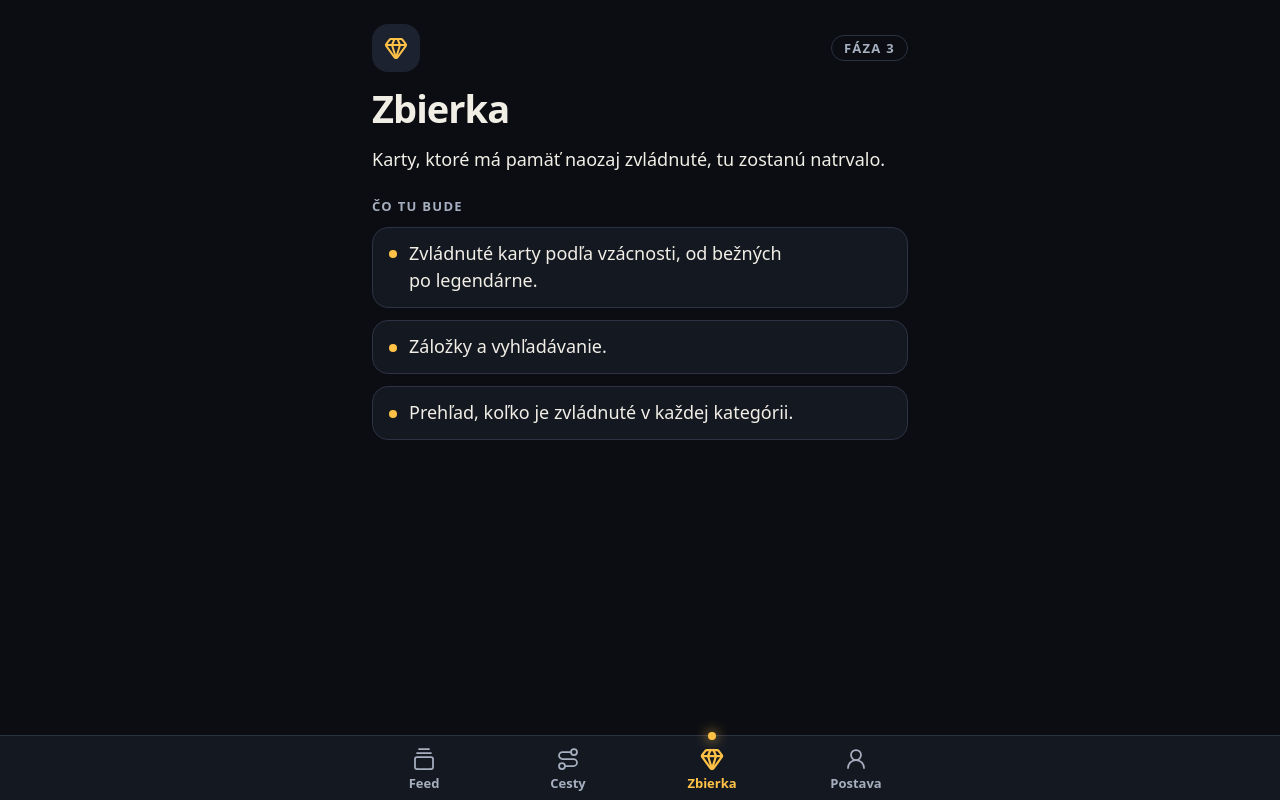
Test: app shell › returns to the feed from another tab
Check: the heading "Zbierka" is shown, box [372,82,509,134]
Click the link "Feed" at x=424, y=769, box [409,747,439,792]
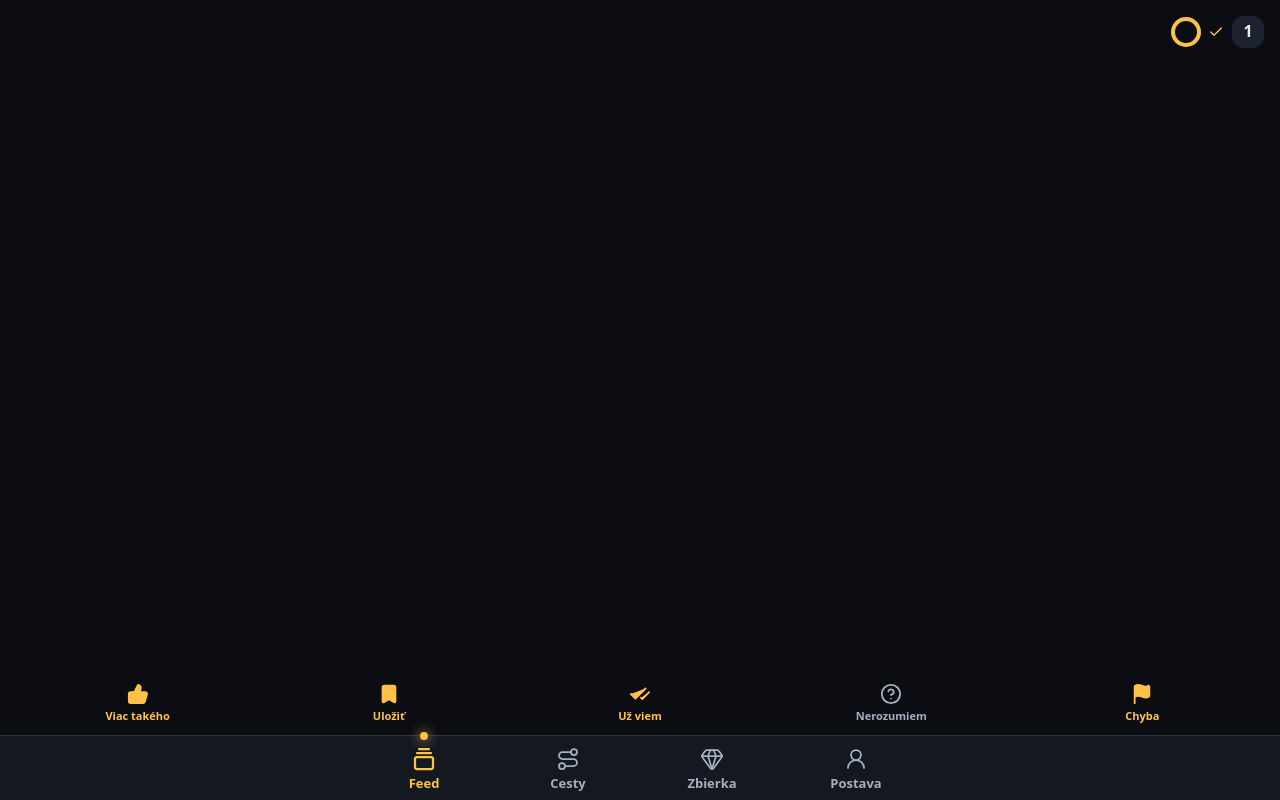
Check: the element named "Feed kariet" is shown, box [12,655,1268,727]
